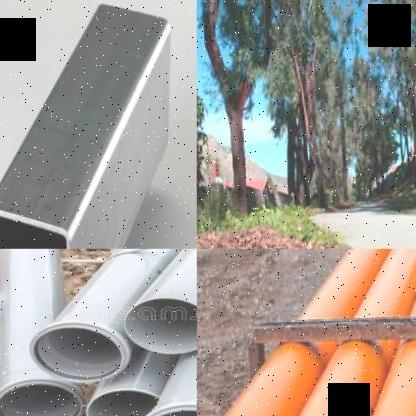pipe: (30, 323, 128, 382), (124, 297, 197, 354), (0, 379, 85, 416), (87, 388, 160, 416)
